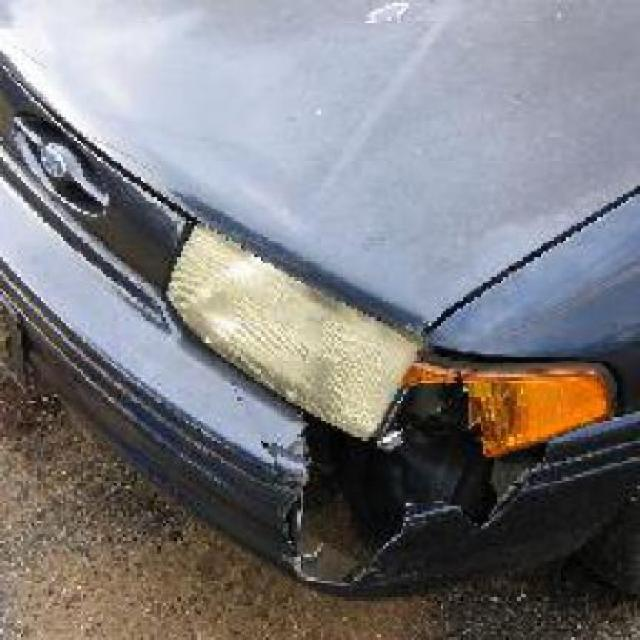dent-or-scratch: (0, 200, 637, 589)
